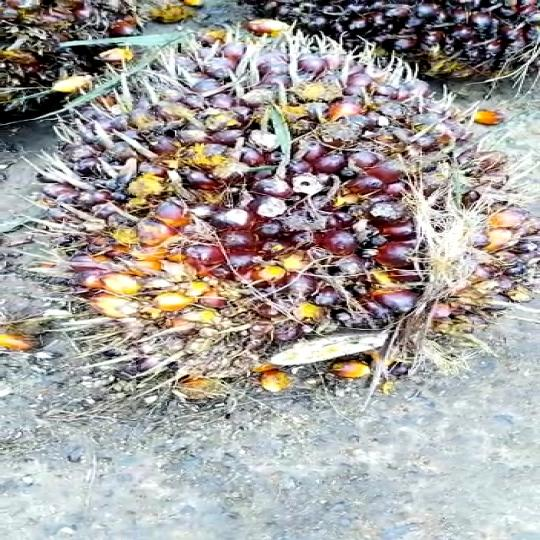masak: (0, 29, 540, 393)
